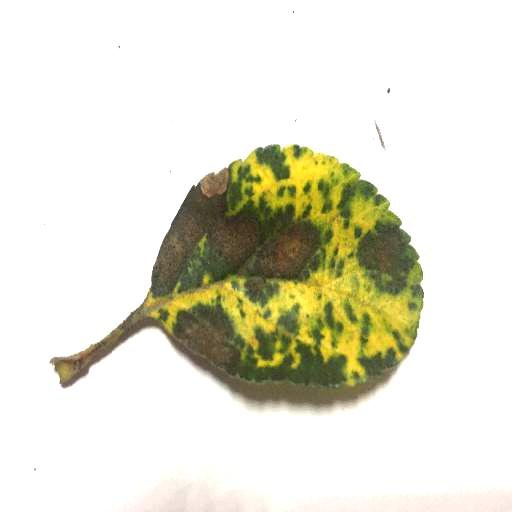Brown_Spot: (163, 200, 210, 290), (208, 216, 261, 275), (175, 313, 234, 363), (256, 238, 315, 278), (370, 236, 418, 276)
